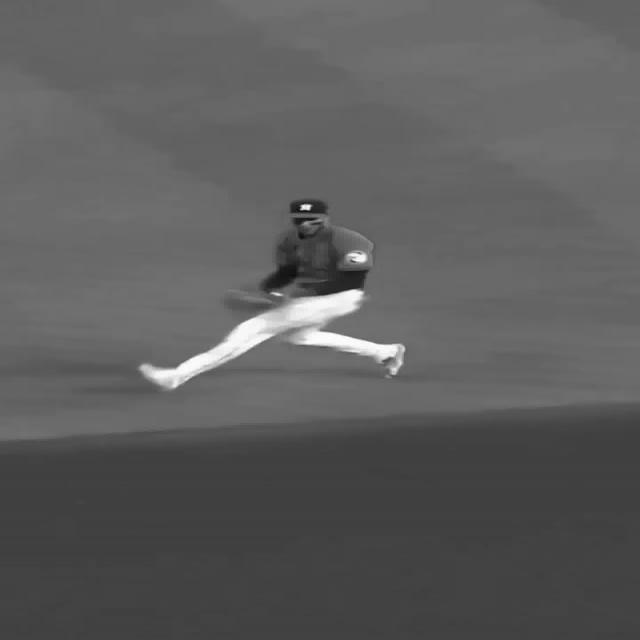baseball_glove: (223, 288, 287, 312)
shoe: (138, 363, 182, 391), (378, 343, 406, 378)
